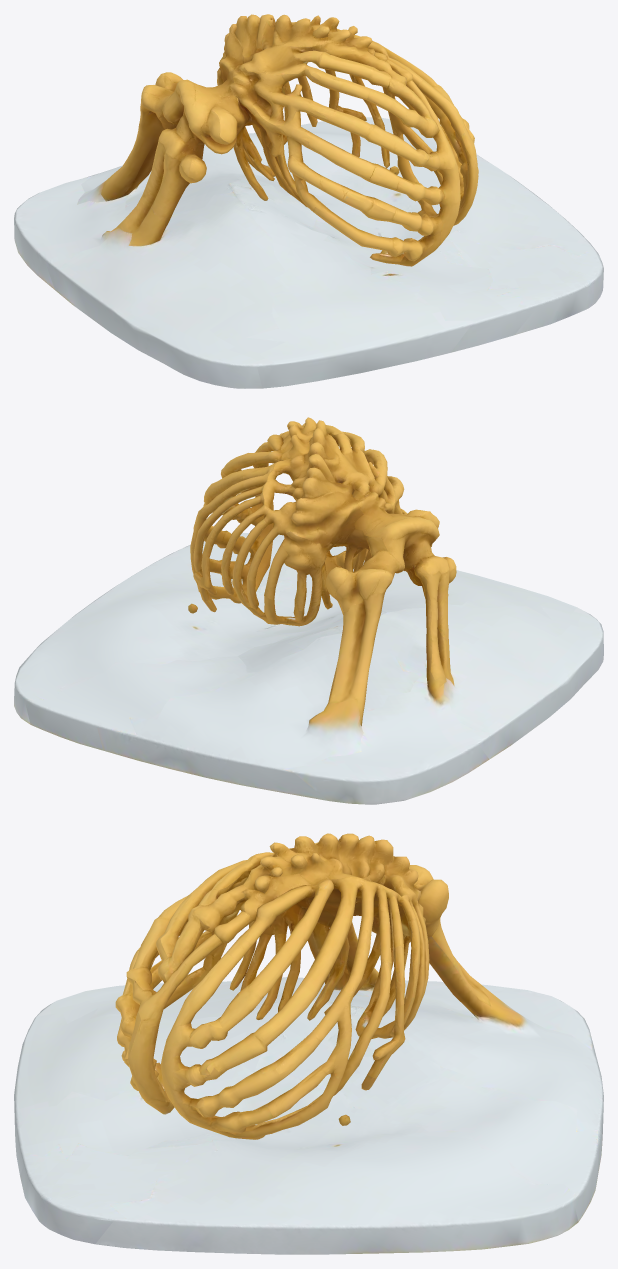
The model's file is giant-ribcage.opt.glb.
3 renders of one model, top to bottom at view 1: azimuth 30°, elevation 25°; view 2: azimuth 150°, elevation 25°; view 3: azimuth 270°, elevation 25°, orthographic. The views are drawn at different scales.
Size of the model in its own units: 1.9 by 1.04 by 1.91.
1 material, 1 textured.
